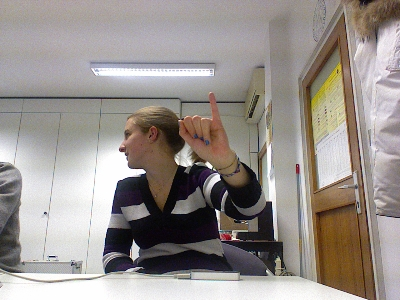小指: (176, 90, 230, 162)
